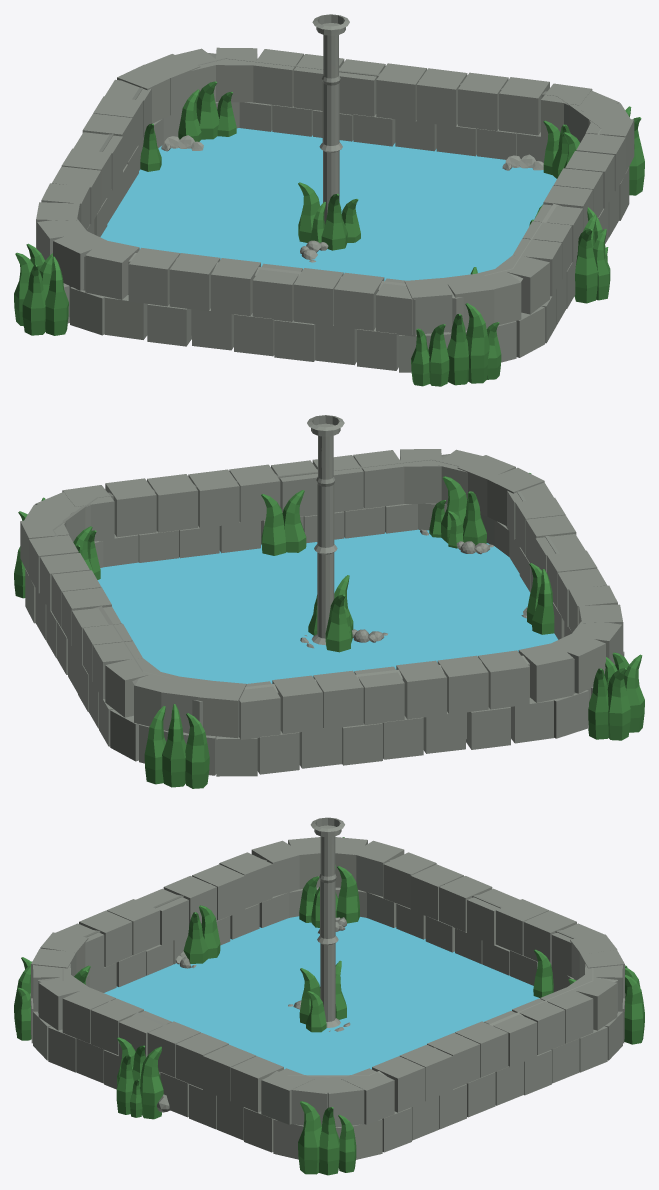
File: Fuente.fbx
The picture shows the model from 3 angles, top to bottom: view 1: azimuth 30°, elevation 25°; view 2: azimuth 150°, elevation 25°; view 3: azimuth 270°, elevation 25°; orthographic projection. The views are drawn at different scales.
Visible parts, largest first — view 1: Cylinder.001; view 2: Cylinder.001; view 3: Cylinder.001.
Boxes of the visible parts, x1,y1,x2,y2 form: Cylinder.001: [14, 14, 644, 386]; Cylinder.001: [14, 415, 644, 788]; Cylinder.001: [14, 817, 644, 1175].
Bounding box in the file's own units: 766 × 280 × 739.
